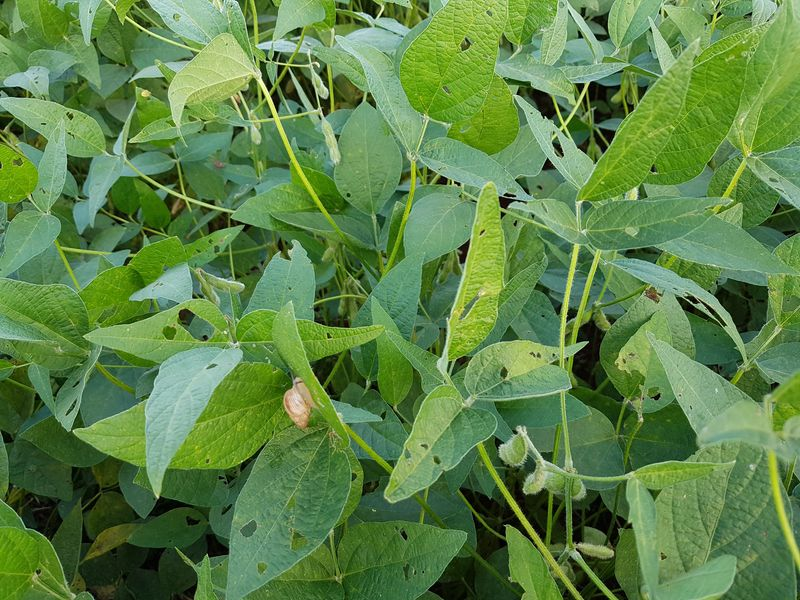Gastropoda: (271, 370, 333, 436)
